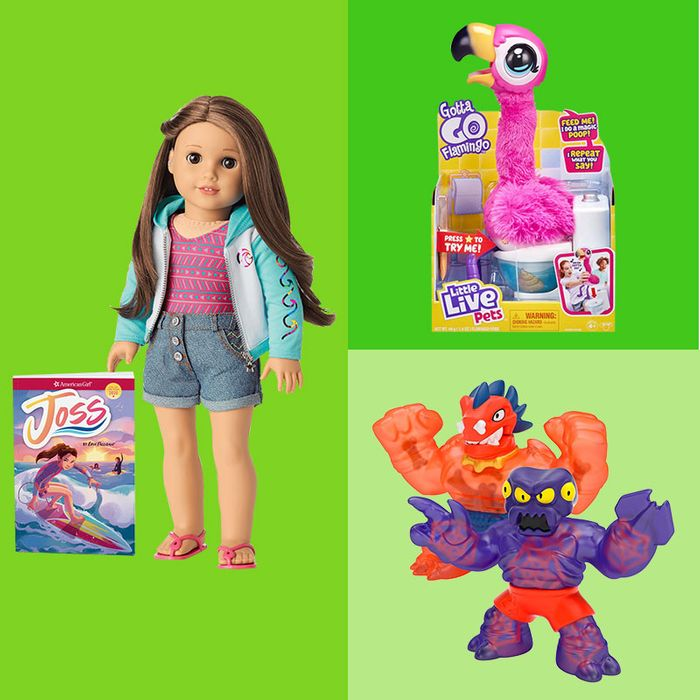toy: (13, 61, 331, 600)
